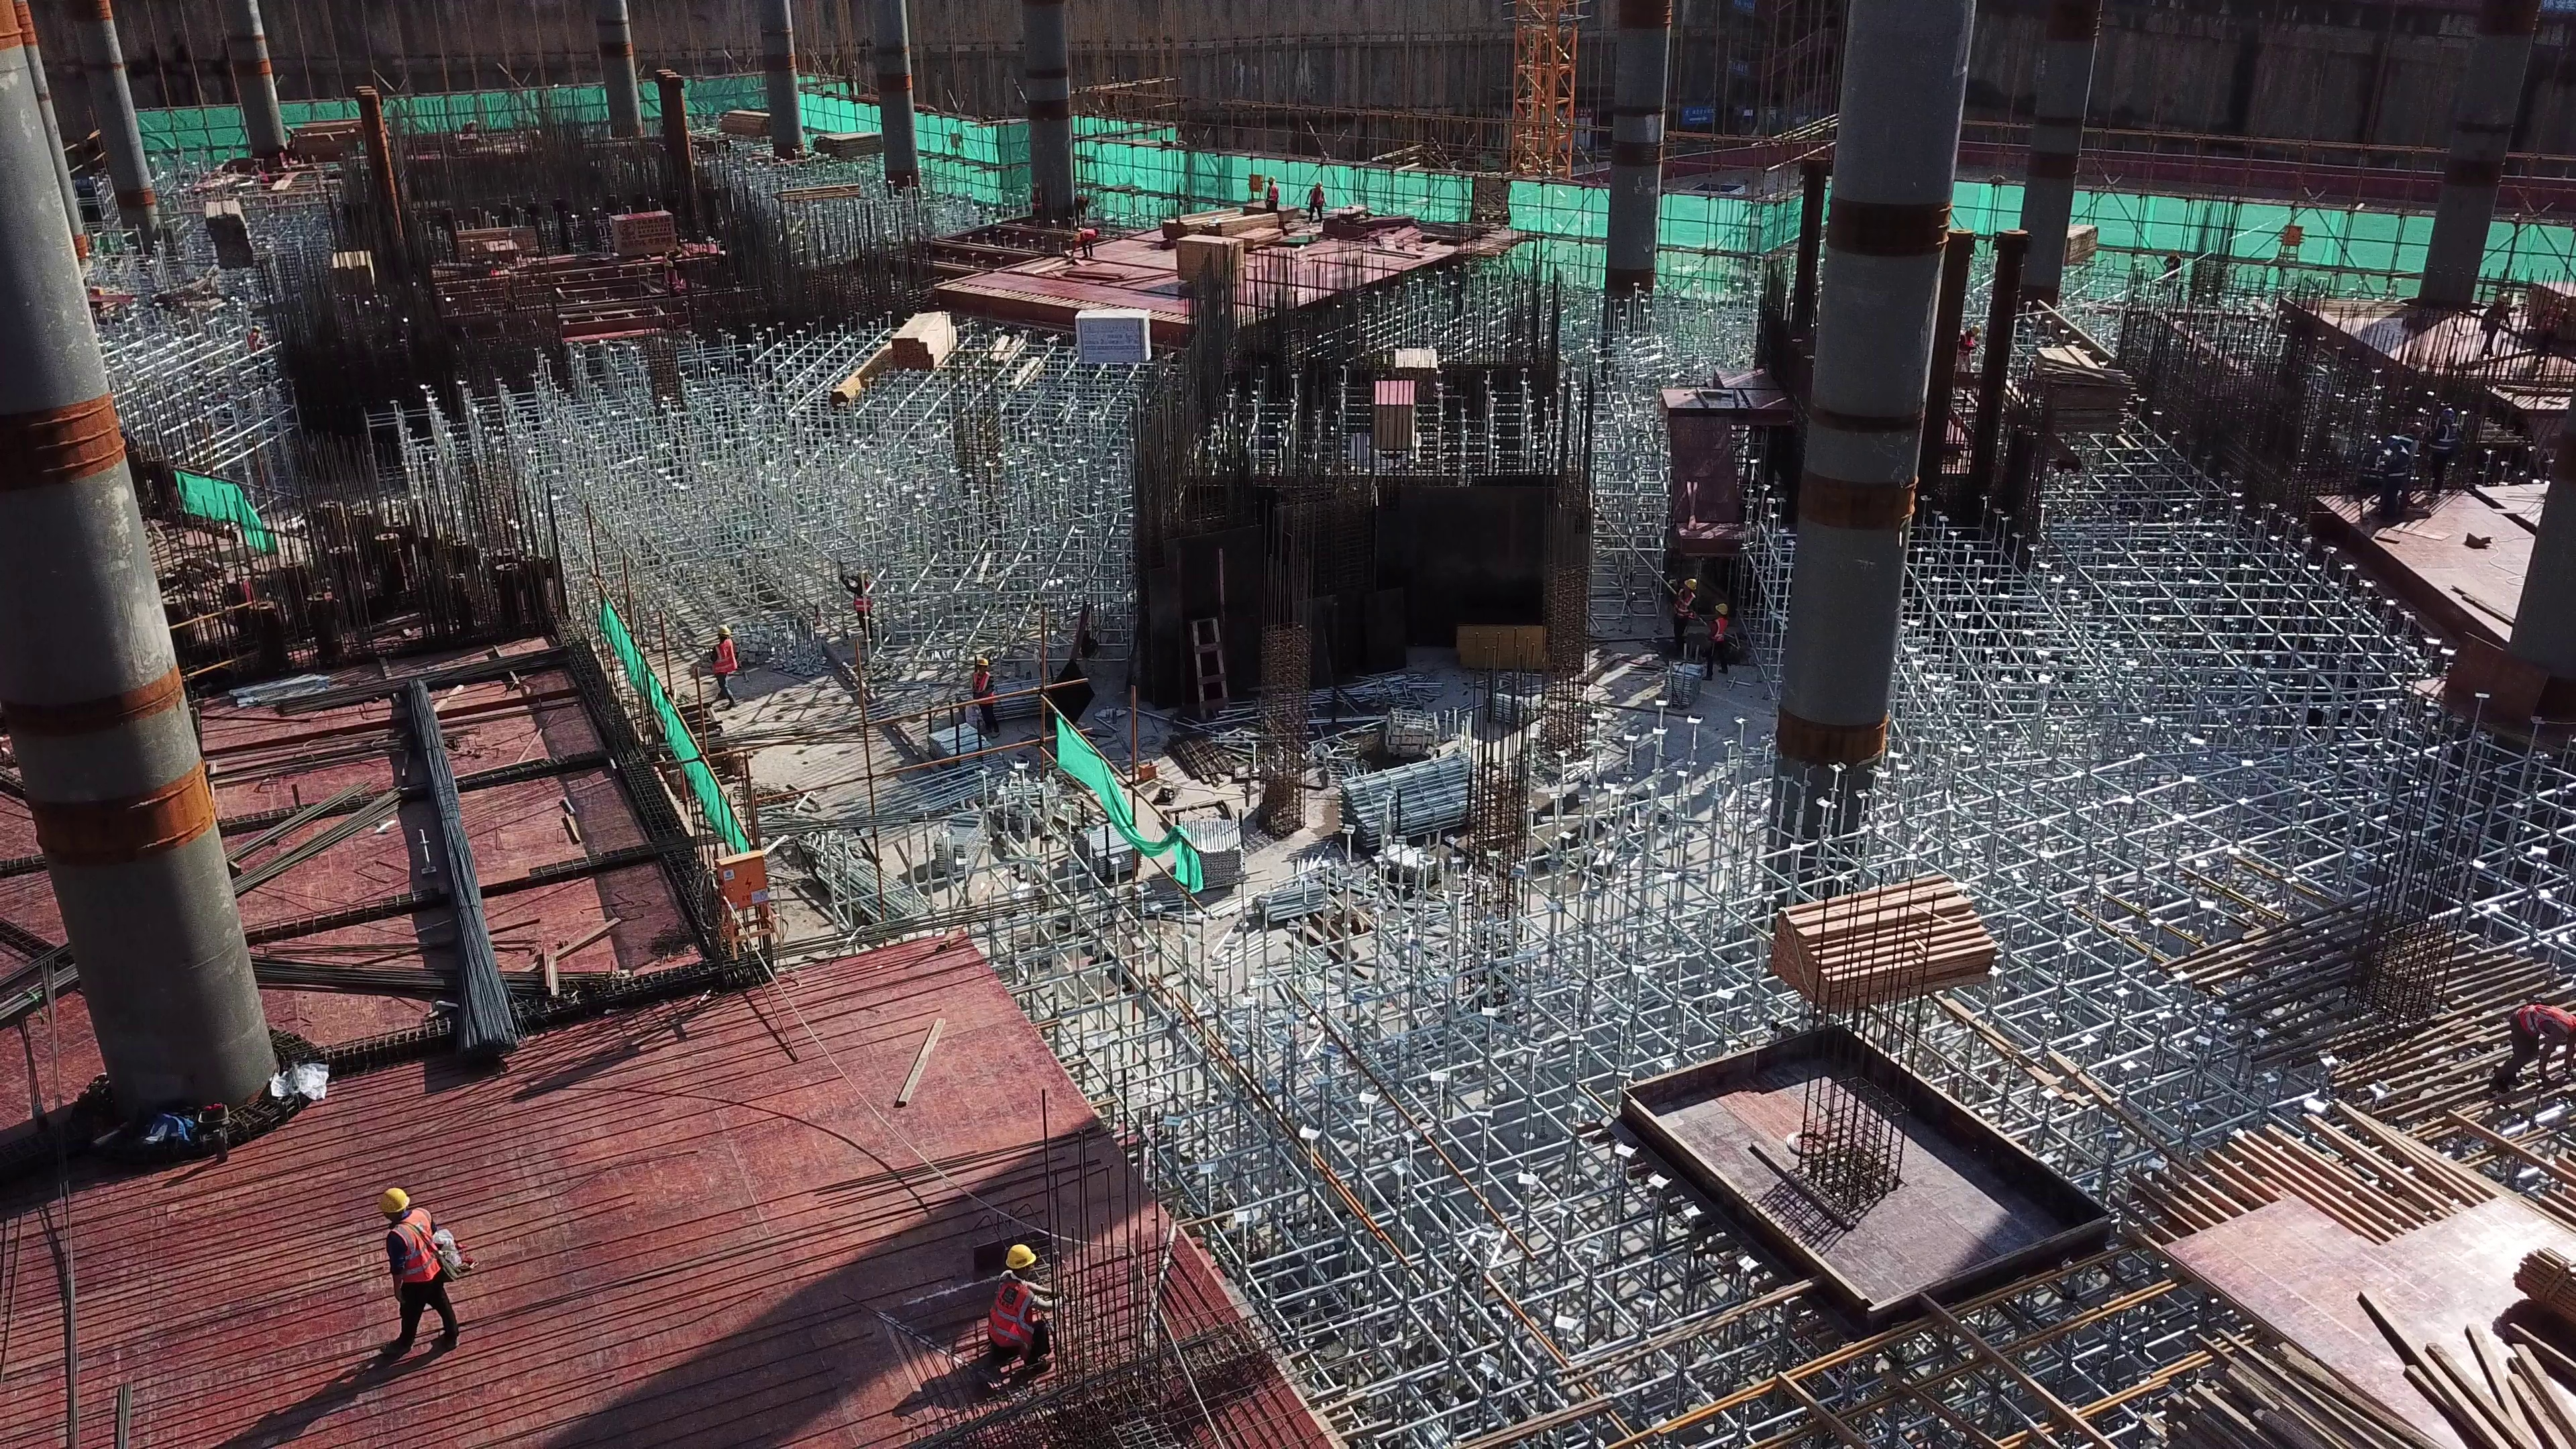helmet: (378, 1186, 413, 1214), (1006, 1245, 1038, 1270), (2384, 433, 2404, 447), (1969, 320, 1981, 339), (1715, 604, 1729, 620), (714, 625, 731, 639), (974, 656, 990, 668), (2440, 407, 2455, 420), (1680, 580, 1695, 592)
person: (366, 1188, 465, 1362), (979, 1243, 1052, 1375), (2485, 996, 2576, 1094), (702, 625, 740, 717), (965, 653, 1001, 730), (2425, 404, 2454, 502), (1670, 576, 1699, 648), (1705, 602, 1729, 685), (1959, 322, 1981, 378), (1069, 227, 1099, 264), (1304, 180, 1325, 223), (1265, 176, 1281, 215)
vest: (381, 1216, 445, 1291), (985, 1279, 1036, 1352), (2508, 1003, 2574, 1045), (968, 672, 996, 712), (712, 638, 736, 679), (2387, 451, 2410, 486), (2434, 421, 2455, 456), (1674, 590, 1693, 621), (1710, 619, 1727, 646), (1958, 334, 1974, 362), (1306, 190, 1323, 211), (1079, 227, 1097, 248), (1265, 184, 1276, 205)
